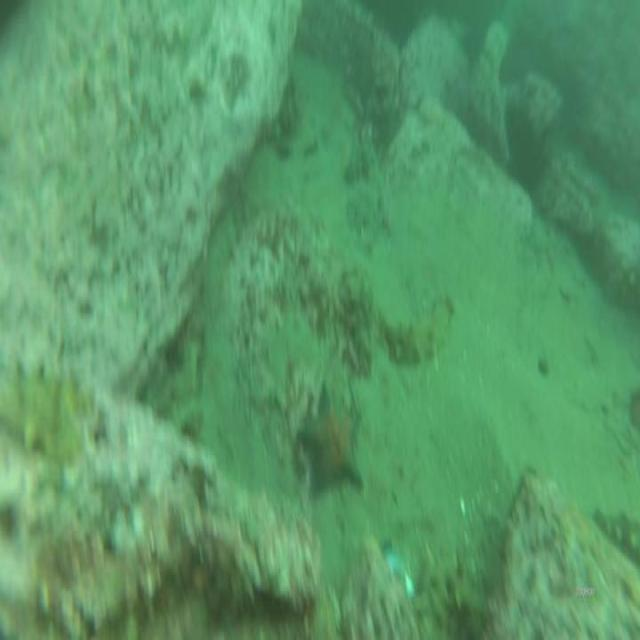holothurian: (0, 354, 92, 460), (387, 291, 457, 371)
starfish: (295, 378, 365, 498)
